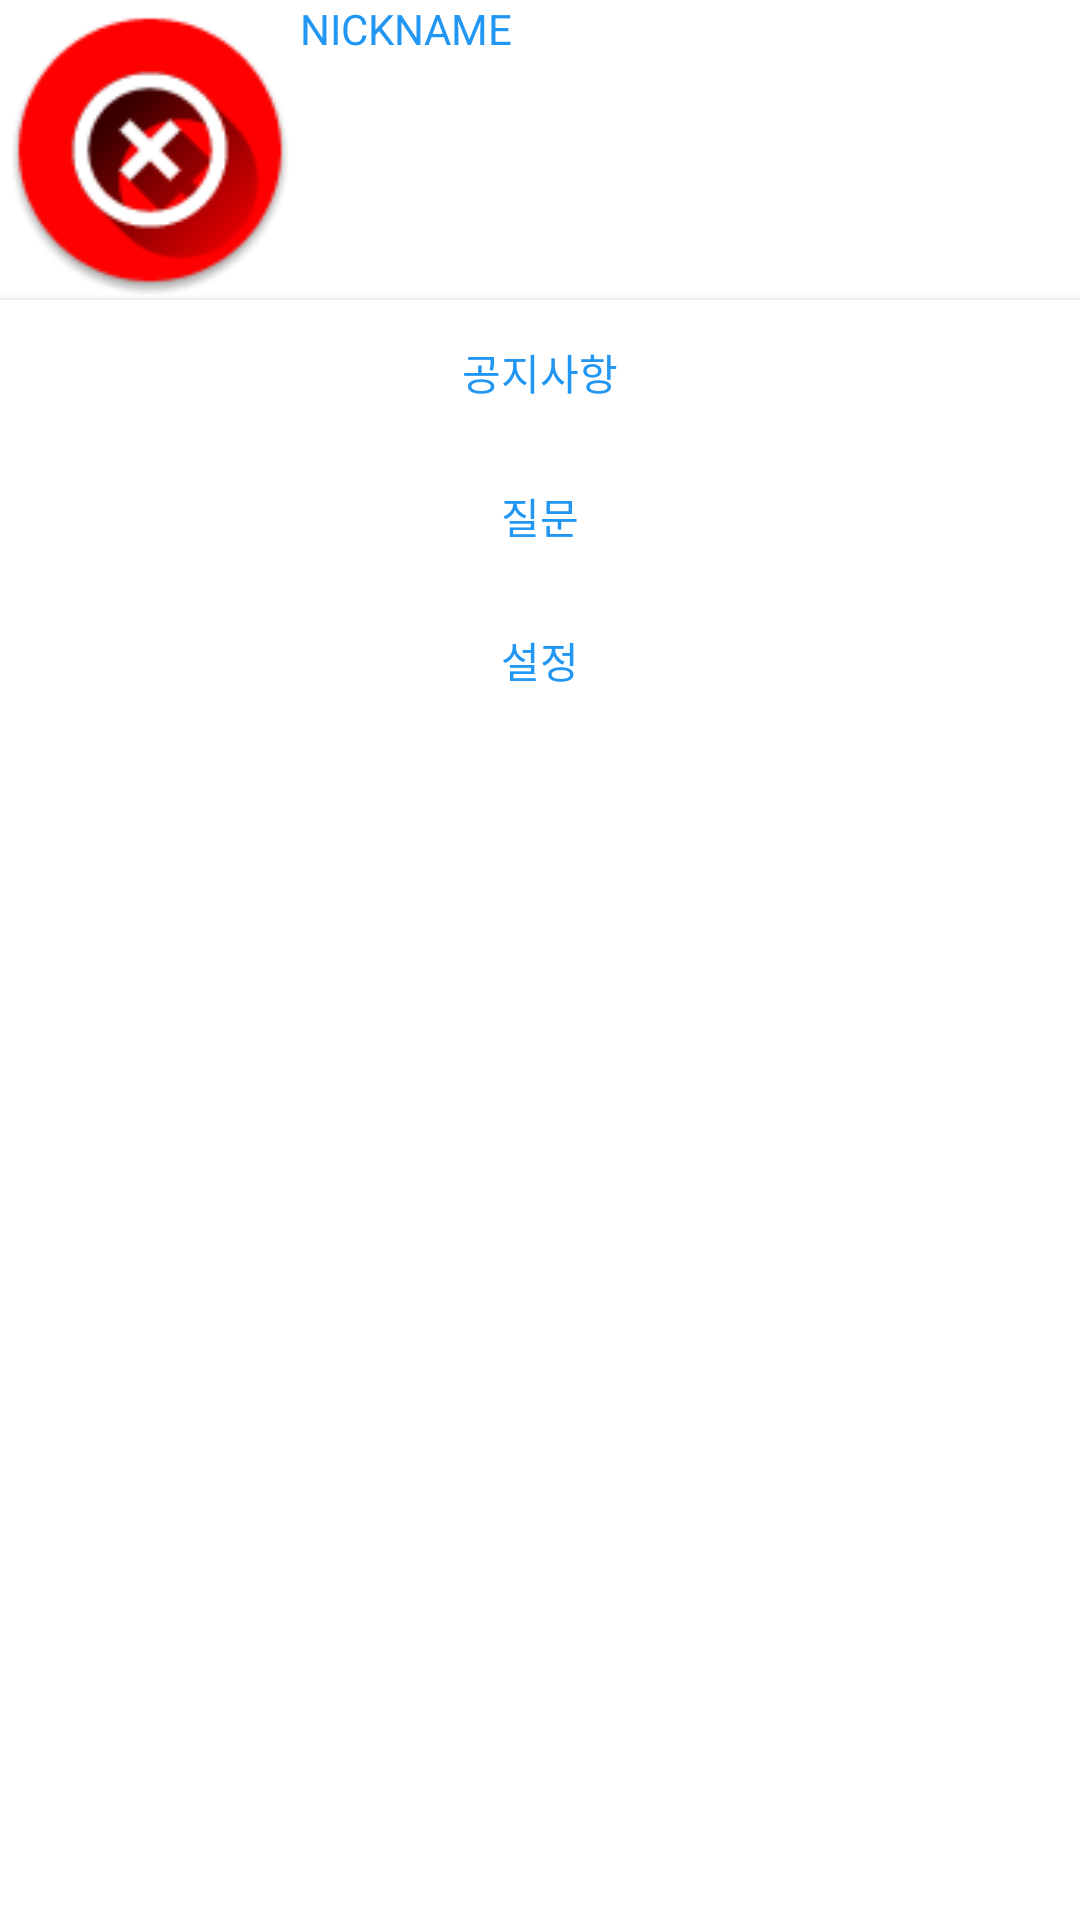

Where icons sit on this 1080 × 1920 app screen, as {"left": x1, "top": y1, "right": x2, "bottom": y2}:
cancel: {"left": 15, "top": 17, "right": 285, "bottom": 291}
